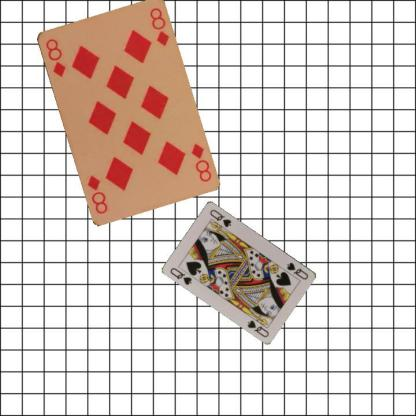8d: (188, 140, 212, 184), (43, 36, 66, 78)
Qs: (284, 259, 310, 281), (168, 265, 194, 287)
